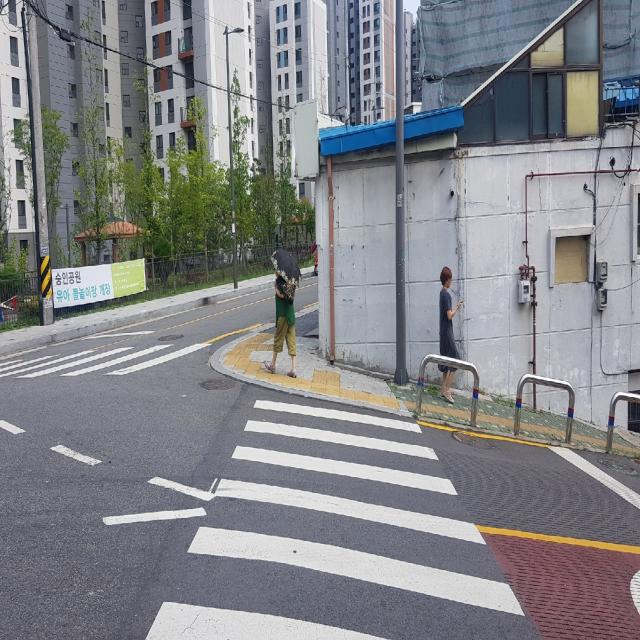횡단보도: (144, 400, 526, 640), (0, 314, 211, 385)
